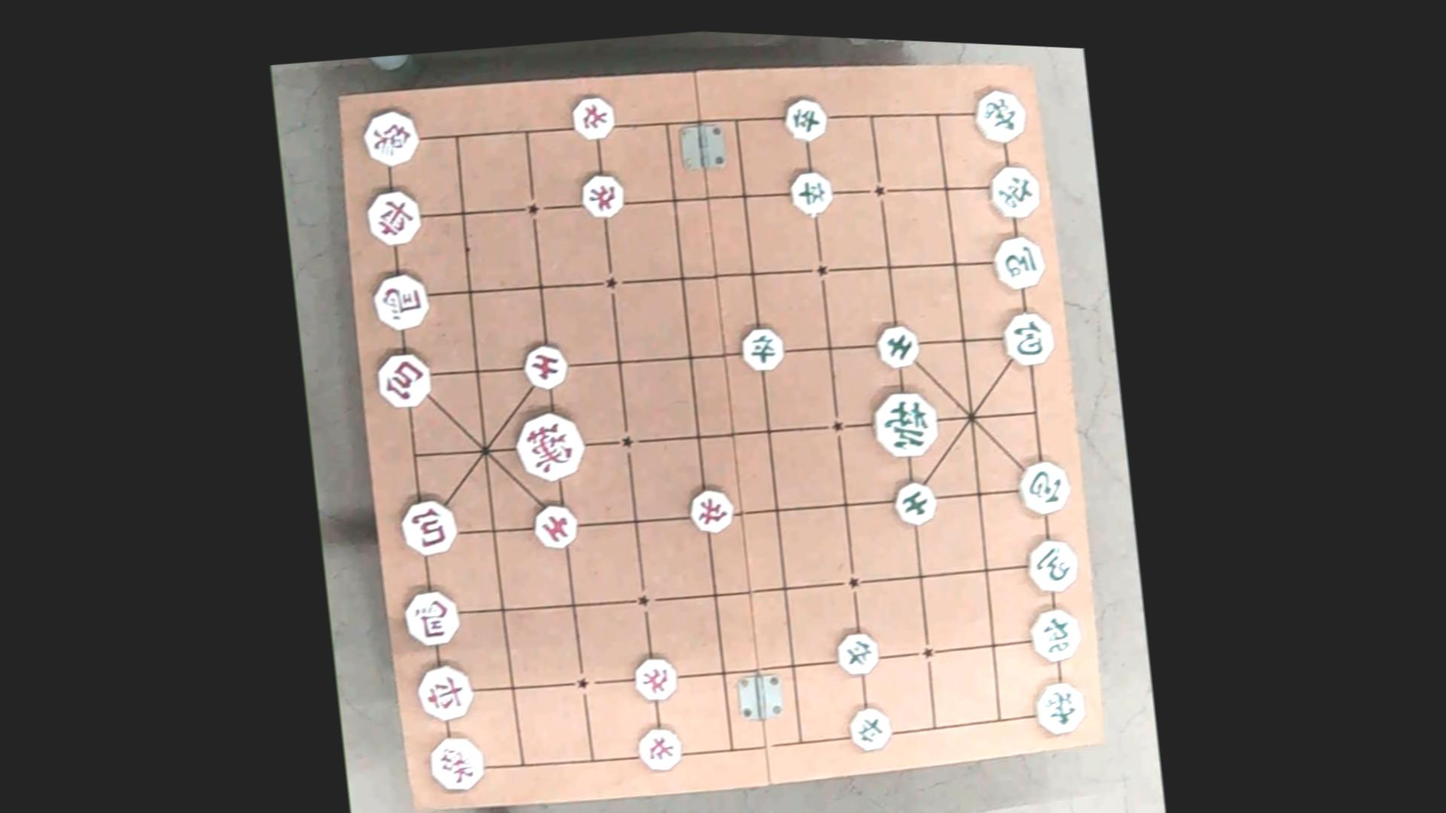cha_green: (1027, 602, 1080, 668), (985, 158, 1039, 221)
cha_red: (362, 183, 419, 251), (413, 657, 471, 723)
jol_green: (737, 321, 781, 376), (789, 166, 832, 219), (835, 625, 878, 678), (783, 93, 826, 145), (848, 702, 891, 754)
jol_red: (636, 720, 682, 775), (631, 649, 675, 705), (581, 166, 625, 221), (685, 484, 730, 537), (570, 91, 613, 145)
ma_green: (1023, 530, 1076, 595), (990, 230, 1043, 294)
ma_red: (372, 266, 429, 336), (400, 587, 457, 653)
po_green: (1015, 451, 1068, 517), (999, 304, 1051, 370)
po_red: (374, 346, 429, 414), (398, 495, 454, 561)
sa_green: (872, 316, 921, 373), (892, 477, 938, 526)
sa_red: (531, 501, 580, 554), (521, 342, 568, 391)
sang_green: (1031, 674, 1085, 738), (972, 84, 1025, 147)
sang_red: (358, 103, 417, 174), (425, 732, 486, 794)
wang_green: (871, 385, 938, 463)
wang_red: (516, 405, 585, 484)
